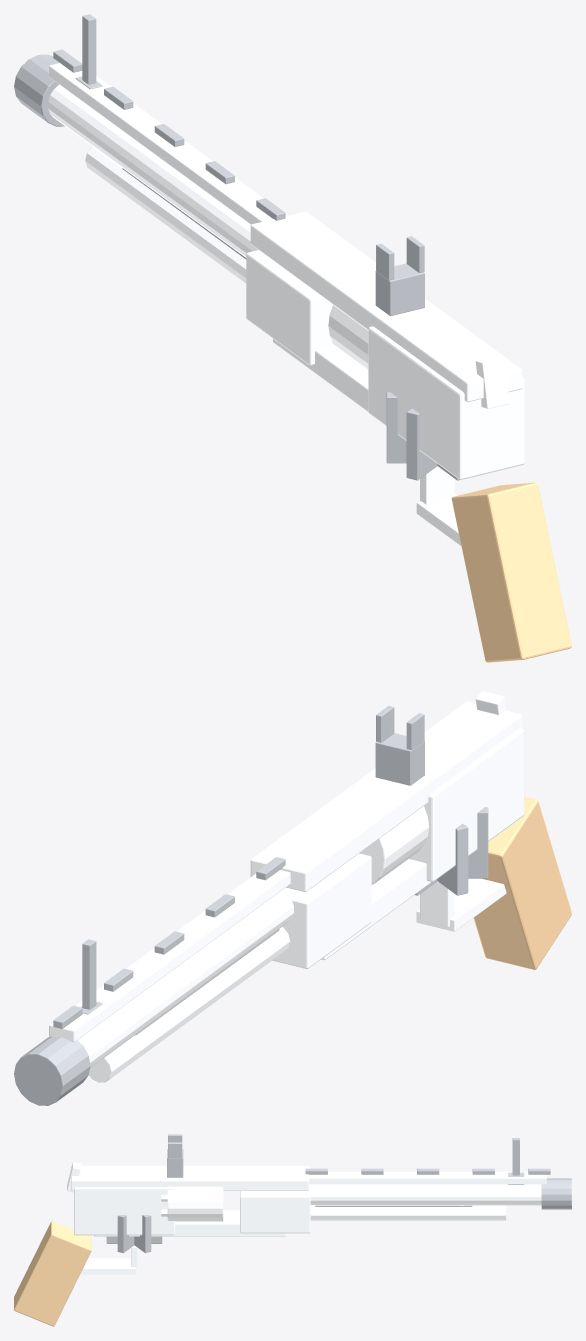
Rendered from python.glb.
3 views of the same model, one above another, from view 1: azimuth 30°, elevation 25°; view 2: azimuth 150°, elevation 25°; view 3: azimuth 270°, elevation 25° (orthographic). The views are drawn at different scales.
Visible parts, largest first — view 1: Frame, Grip, TopStrap, Barrel, VentRib, StockIrons, Underlug, MuzzleRing, RevolverCylinder, _HammerSpur, _Flute2, TriggerGuard (+2 smaller); view 2: Frame, TopStrap, Grip, Barrel, VentRib, Underlug, StockIrons, MuzzleRing, RevolverCylinder, TriggerGuard, _GuardPostF, _Flute1 (+2 smaller); view 3: Frame, TopStrap, Barrel, Grip, VentRib, Underlug, RevolverCylinder, StockIrons, MuzzleRing, TriggerGuard, _Flute1, _Flute2 (+1 smaller).
Part boxes in pixels (bbox=[...]): Frame: bbox=[246, 250, 524, 479]; Grip: bbox=[451, 482, 571, 662]; TopStrap: bbox=[250, 211, 522, 402]; Barrel: bbox=[48, 84, 258, 257]; VentRib: bbox=[49, 63, 286, 224]; StockIrons: bbox=[75, 14, 424, 316]; Underlug: bbox=[85, 146, 246, 283]; MuzzleRing: bbox=[14, 54, 64, 126]; RevolverCylinder: bbox=[328, 305, 368, 371]; _HammerSpur: bbox=[475, 355, 509, 408]; _Flute2: bbox=[406, 408, 437, 480]; TriggerGuard: bbox=[416, 493, 461, 546]; Frame: bbox=[272, 728, 524, 968]; TopStrap: bbox=[250, 701, 522, 891]; Grip: bbox=[473, 796, 571, 969]; Barrel: bbox=[77, 887, 301, 1067]; VentRib: bbox=[49, 870, 290, 1042]; Underlug: bbox=[88, 927, 289, 1082]; StockIrons: bbox=[81, 706, 424, 1014]; MuzzleRing: bbox=[14, 1036, 90, 1105]; RevolverCylinder: bbox=[359, 806, 428, 884]; TriggerGuard: bbox=[416, 878, 506, 931]; _GuardPostF: bbox=[420, 881, 454, 927]; _Flute1: bbox=[437, 824, 468, 895]; Frame: bbox=[74, 1187, 310, 1236]; TopStrap: bbox=[71, 1165, 309, 1190]; Barrel: bbox=[271, 1184, 541, 1205]; Grip: bbox=[14, 1221, 91, 1326]; VentRib: bbox=[309, 1171, 546, 1184]; Underlug: bbox=[310, 1205, 506, 1220]; RevolverCylinder: bbox=[167, 1186, 223, 1221]; StockIrons: bbox=[167, 1134, 524, 1184]; MuzzleRing: bbox=[541, 1178, 571, 1209]; TriggerGuard: bbox=[80, 1258, 136, 1274]; _Flute1: bbox=[117, 1215, 134, 1253]; _Flute2: bbox=[134, 1215, 151, 1253].
Size of the model in its own units: 0.0534 by 0.1975 by 0.5511.
